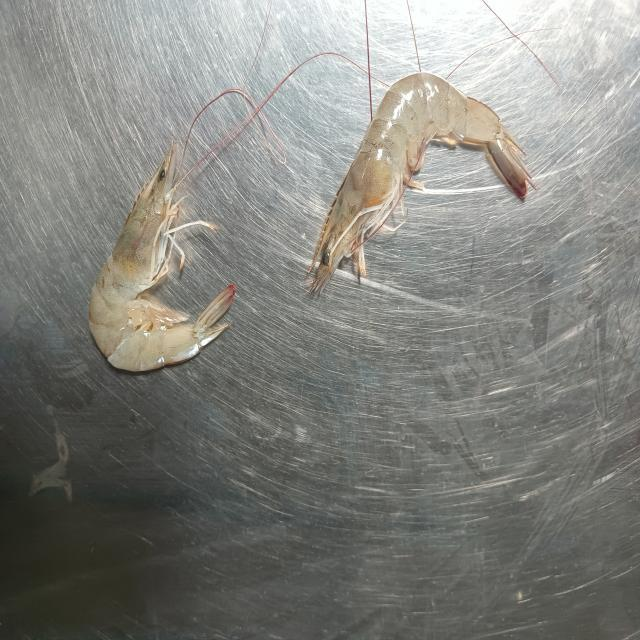shrimp: (309, 73, 535, 294), (89, 143, 235, 372)
